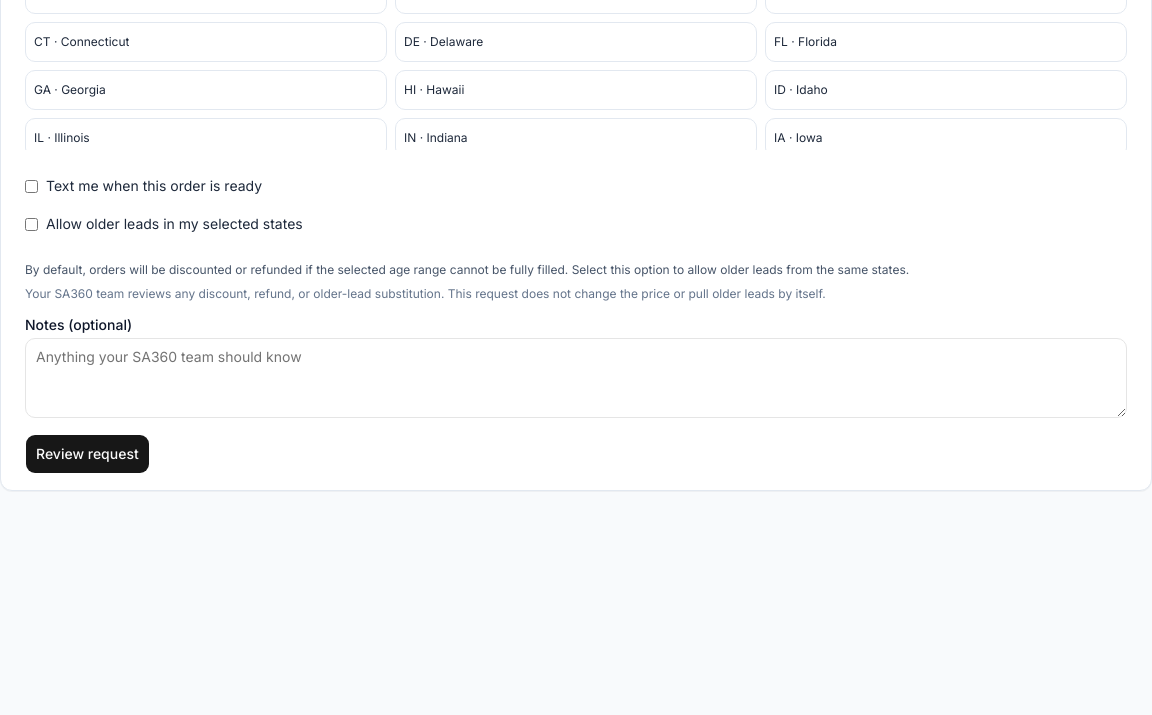
it: validation failure stays on the form
(page scrolled)
Click the button "Review request" at {"x": 87, "y": 454}, box [25, 434, 150, 474]
(page scrolled)
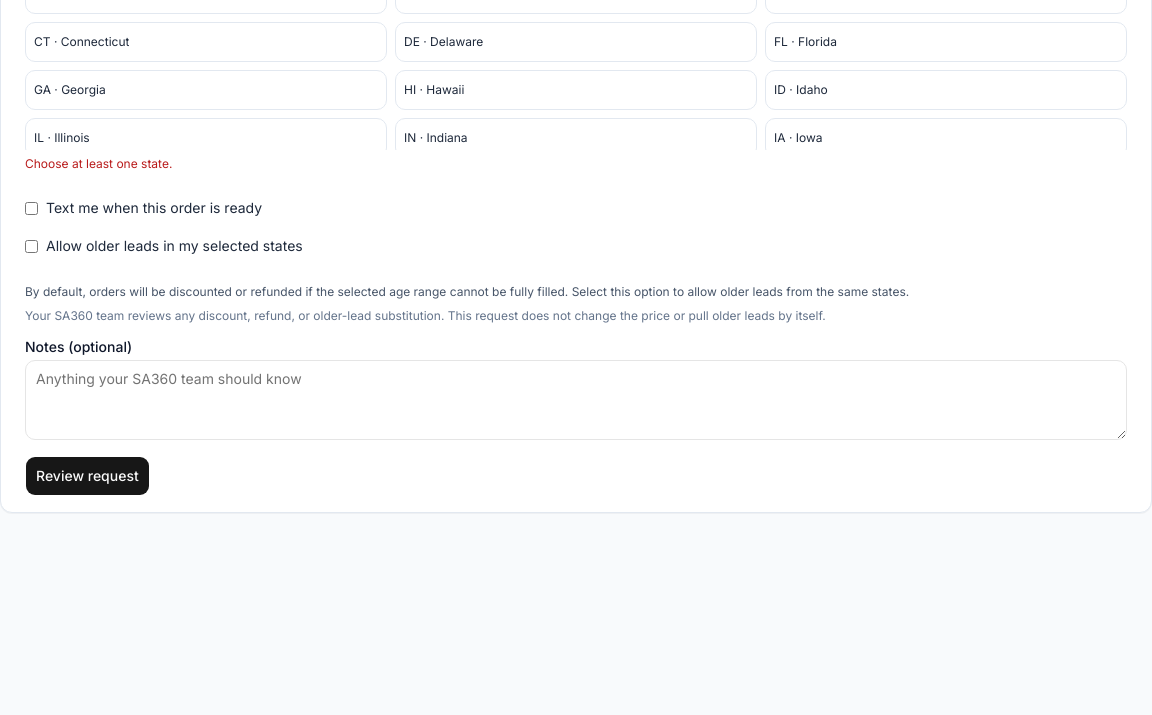
Expected: the button "Review request" is shown, [25, 456, 150, 496]
Result: the text "Choose at least one state." is shown at [25, 156, 172, 171]
